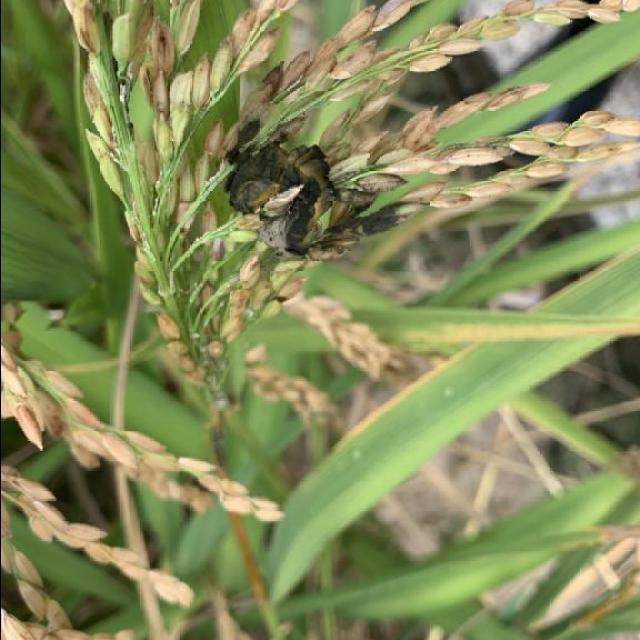Leaf_Scald: (224, 127, 340, 253)
